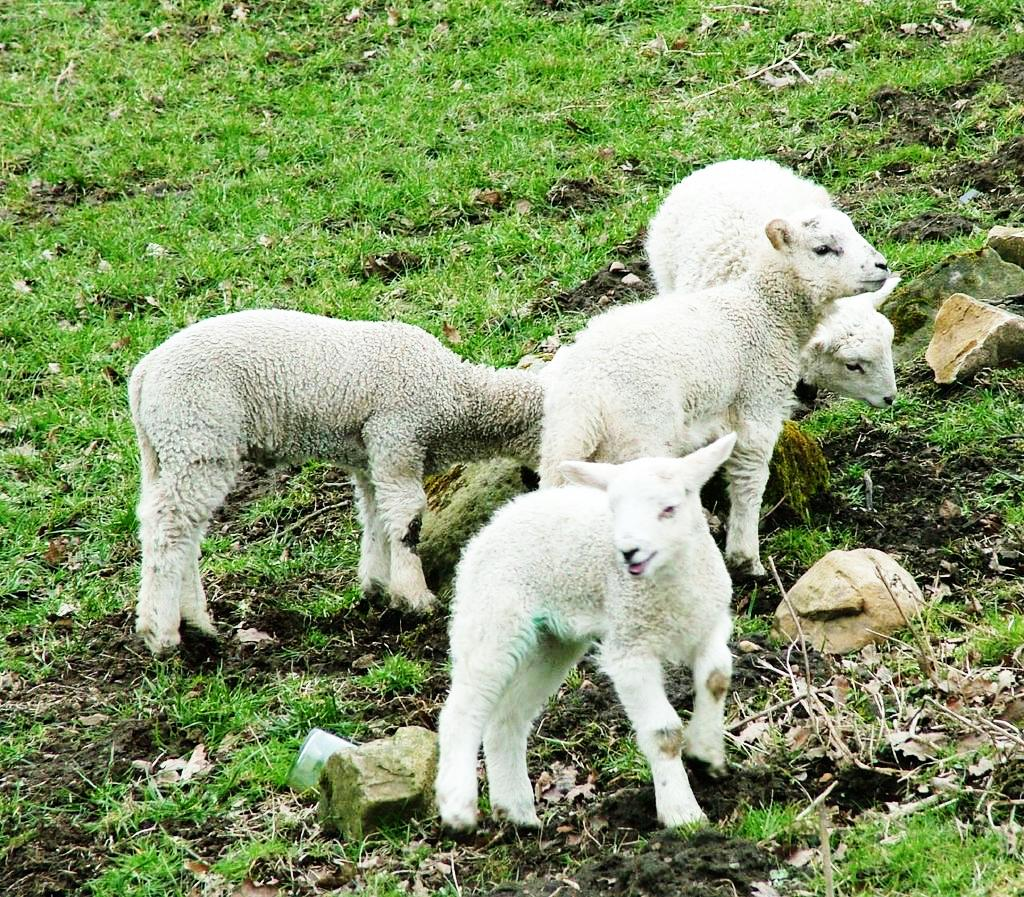Sheep: (130, 312, 540, 665), (534, 186, 888, 570), (430, 434, 740, 836), (642, 158, 902, 402)
